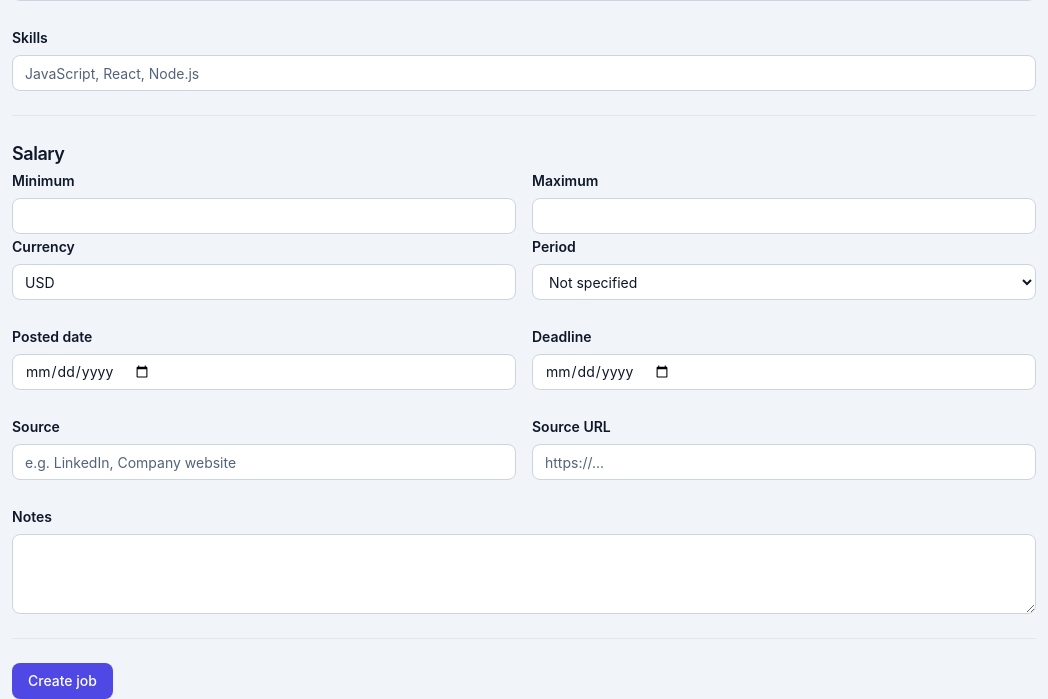
Test: JobForm › flags an empty title as required and does not submit
The image size is (1048, 699).
(page scrolled)
Click the button "Create job" at (62,681), box [12,663,113,698]
(page scrolled)
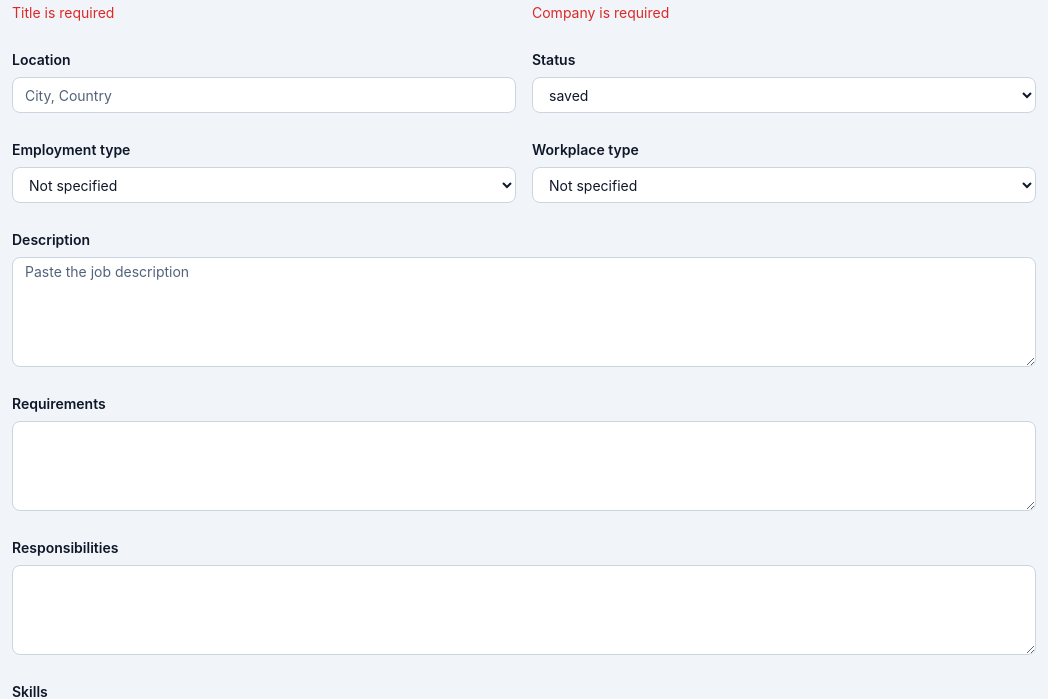
Expected: the text "Title is required" is shown, [12,4,114,21]
